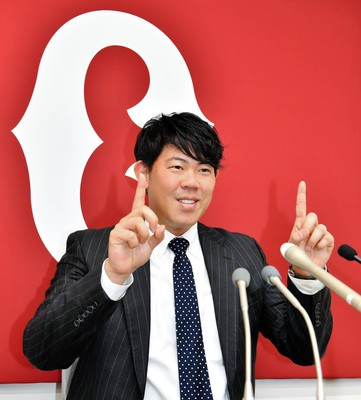face: (134, 145, 218, 226)
hand: (109, 174, 165, 273), (288, 179, 334, 272)
